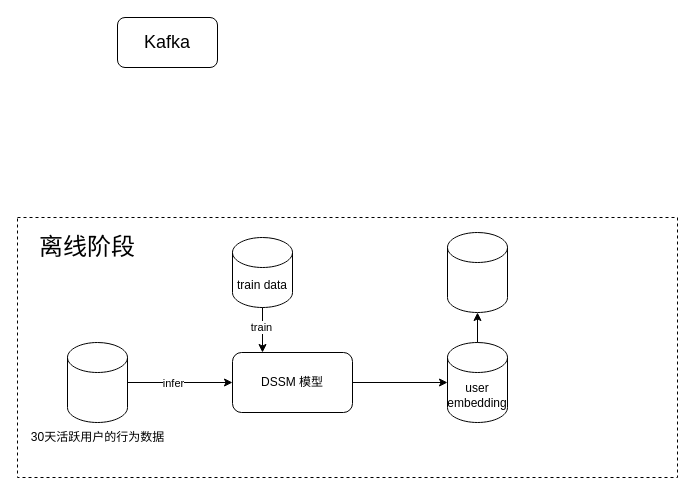
Image size: 695x495. Some labels were removed from this diagram. Each missing label, with the box of its shape:
infer data: (66, 342, 128, 422)
用户相似表: (446, 232, 508, 312)
